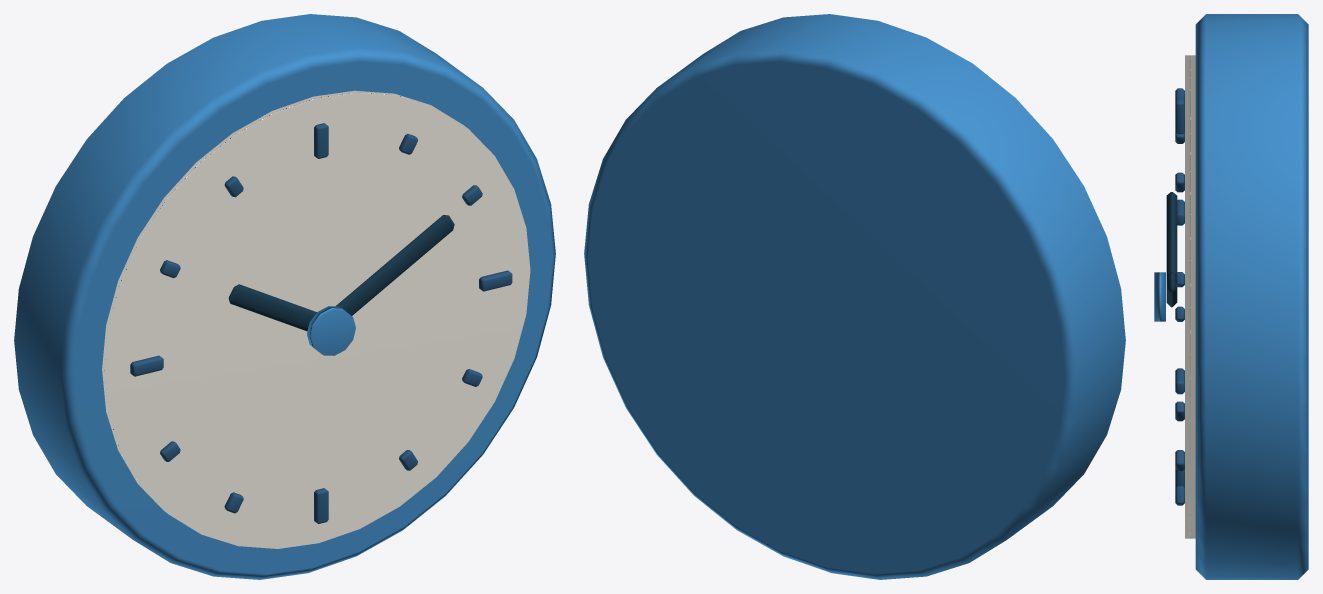
Rendered from Recovery_Wall_Clock.glb.
3 views of the same model, side by side, from view 1: azimuth 30°, elevation 25°; view 2: azimuth 150°, elevation 25°; view 3: azimuth 270°, elevation 25° (orthographic).
Visible parts, largest first — view 1: Recovery_Wall_Clock__Visual; view 2: Recovery_Wall_Clock__Visual; view 3: Recovery_Wall_Clock__Visual.
Boxes of the visible parts, box(x1,y1,x2,y2) form: Recovery_Wall_Clock__Visual: box(14, 14, 555, 579); Recovery_Wall_Clock__Visual: box(584, 14, 1125, 579); Recovery_Wall_Clock__Visual: box(1154, 14, 1308, 579).
Size of the model in its own units: 0.48 by 0.48 by 0.131.
1 material, 1 textured.
